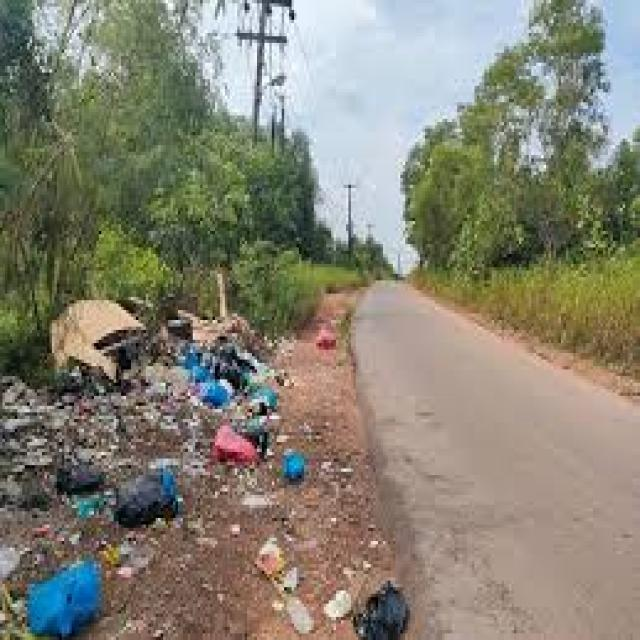trash: (0, 209, 410, 640)
